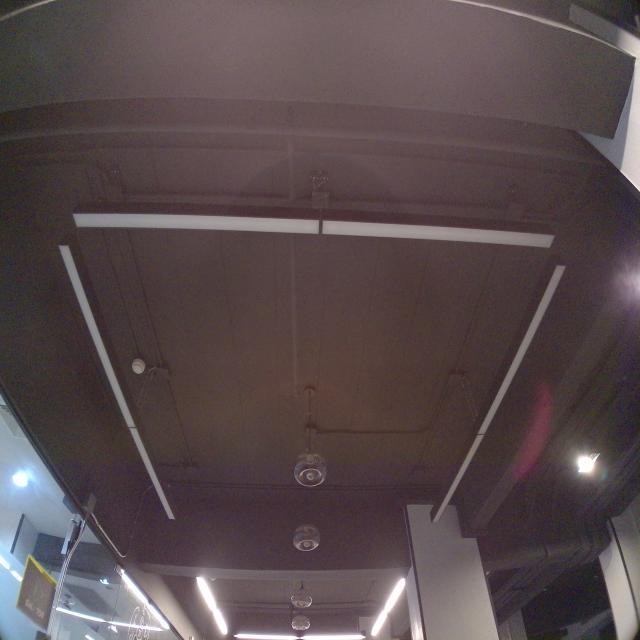lamp2_off: (425, 265, 577, 529), (53, 237, 183, 526), (66, 193, 565, 258)
